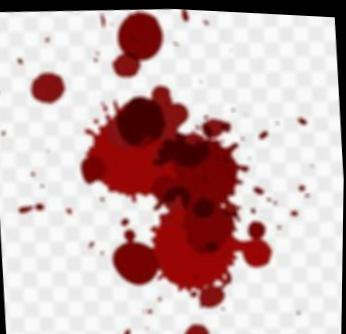Fire: (81, 82, 274, 304), (112, 9, 164, 75), (31, 71, 66, 102), (185, 321, 211, 334)
